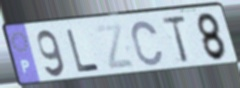8: (196, 11, 229, 63)
9: (35, 28, 67, 80)
C: (130, 19, 165, 68)
L: (65, 28, 102, 74)
T: (160, 14, 191, 65)
Z: (93, 22, 138, 72)
